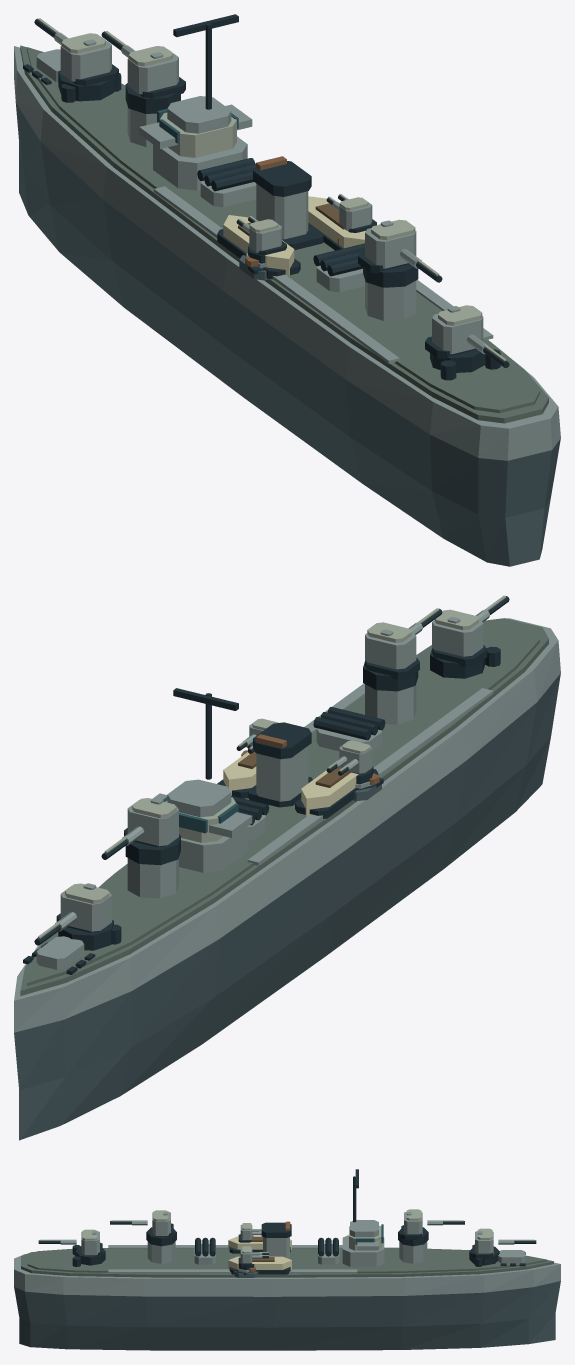
The model's file is historic-stord.glb.
3 renders of one model, top to bottom at view 1: azimuth 30°, elevation 25°; view 2: azimuth 150°, elevation 25°; view 3: azimuth 270°, elevation 25°, orthographic. The views are drawn at different scales.
Parts seen in each view (by area): view 1: historic-stord-historic-stord-geometry, historic-stord-part_bridge.060-geometry, historic-stord-historic_funnel_0.062-geometry, historic-stord-turret_main_2.044-geometry, historic-stord-turret_main_1.049-geometry, historic-stord-turret_main_0.051-geometry, historic-stord-turret_main_3.026-geometry, historic-stord-torpedo_bank_1.017-geometry, historic-stord-torpedo_bank_0.020-geometry, historic-stord-turret_aa_aa-port.063-geometry, historic-stord-turret_aa_aa-starboard.060-geometry; view 2: historic-stord-historic-stord-geometry, historic-stord-part_bridge.060-geometry, historic-stord-historic_funnel_0.062-geometry, historic-stord-turret_main_2.044-geometry, historic-stord-turret_main_3.026-geometry, historic-stord-turret_main_1.049-geometry, historic-stord-turret_main_0.051-geometry, historic-stord-torpedo_bank_0.020-geometry, historic-stord-turret_aa_aa-port.063-geometry, historic-stord-torpedo_bank_1.017-geometry; view 3: historic-stord-historic-stord-geometry, historic-stord-part_bridge.060-geometry, historic-stord-turret_main_1.049-geometry, historic-stord-turret_main_2.044-geometry, historic-stord-turret_main_3.026-geometry, historic-stord-turret_main_0.051-geometry, historic-stord-historic_funnel_0.062-geometry, historic-stord-torpedo_bank_0.020-geometry, historic-stord-torpedo_bank_1.017-geometry, historic-stord-turret_aa_aa-starboard.060-geometry, historic-stord-turret_aa_aa-port.063-geometry.
Boxes of the visible parts, x1=… form: historic-stord-historic-stord-geometry: x1=14, y1=45, x2=560, y2=566; historic-stord-part_bridge.060-geometry: x1=139, y1=14, x2=252, y2=190; historic-stord-historic_funnel_0.062-geometry: x1=253, y1=156, x2=323, y2=250; historic-stord-turret_main_2.044-geometry: x1=358, y1=219, x2=442, y2=287; historic-stord-turret_main_1.049-geometry: x1=101, y1=31, x2=185, y2=113; historic-stord-turret_main_0.051-geometry: x1=34, y1=18, x2=118, y2=101; historic-stord-turret_main_3.026-geometry: x1=425, y1=305, x2=509, y2=372; historic-stord-torpedo_bank_1.017-geometry: x1=197, y1=158, x2=256, y2=207; historic-stord-torpedo_bank_0.020-geometry: x1=313, y1=243, x2=364, y2=292; historic-stord-turret_aa_aa-port.063-geometry: x1=236, y1=216, x2=286, y2=263; historic-stord-turret_aa_aa-starboard.060-geometry: x1=326, y1=194, x2=376, y2=232; historic-stord-historic-stord-geometry: x1=14, y1=618, x2=560, y2=1140; historic-stord-part_bridge.060-geometry: x1=152, y1=688, x2=252, y2=872; historic-stord-historic_funnel_0.062-geometry: x1=246, y1=722, x2=312, y2=807; historic-stord-turret_main_2.044-geometry: x1=363, y1=608, x2=442, y2=691; historic-stord-turret_main_3.026-geometry: x1=430, y1=595, x2=509, y2=678; historic-stord-turret_main_1.049-geometry: x1=101, y1=798, x2=180, y2=865; historic-stord-turret_main_0.051-geometry: x1=34, y1=883, x2=113, y2=950; historic-stord-torpedo_bank_0.020-geometry: x1=313, y1=707, x2=385, y2=752; historic-stord-turret_aa_aa-port.063-geometry: x1=326, y1=740, x2=373, y2=784; historic-stord-torpedo_bank_1.017-geometry: x1=231, y1=795, x2=269, y2=840; historic-stord-historic-stord-geometry: x1=14, y1=1236, x2=560, y2=1350; historic-stord-part_bridge.060-geometry: x1=342, y1=1169, x2=384, y2=1266; historic-stord-turret_main_1.049-geometry: x1=398, y1=1209, x2=464, y2=1246; historic-stord-turret_main_2.044-geometry: x1=110, y1=1210, x2=176, y2=1246; historic-stord-turret_main_3.026-geometry: x1=38, y1=1229, x2=105, y2=1265; historic-stord-turret_main_0.051-geometry: x1=469, y1=1228, x2=536, y2=1265; historic-stord-historic_funnel_0.062-geometry: x1=260, y1=1221, x2=291, y2=1258; historic-stord-torpedo_bank_0.020-geometry: x1=194, y1=1237, x2=215, y2=1264; historic-stord-torpedo_bank_1.017-geometry: x1=318, y1=1237, x2=339, y2=1264; historic-stord-turret_aa_aa-starboard.060-geometry: x1=238, y1=1246, x2=268, y2=1270; historic-stord-turret_aa_aa-port.063-geometry: x1=238, y1=1223, x2=261, y2=1242.
Bounding box in the file's own units: 0.5994 × 1.35 × 4.11.
